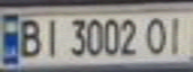0: (84, 16, 106, 57), (103, 16, 124, 57)
2: (118, 15, 142, 57)
3: (63, 15, 87, 57)
B: (15, 15, 45, 58)
I: (163, 13, 193, 55), (39, 16, 63, 57)
O: (142, 14, 172, 56)
